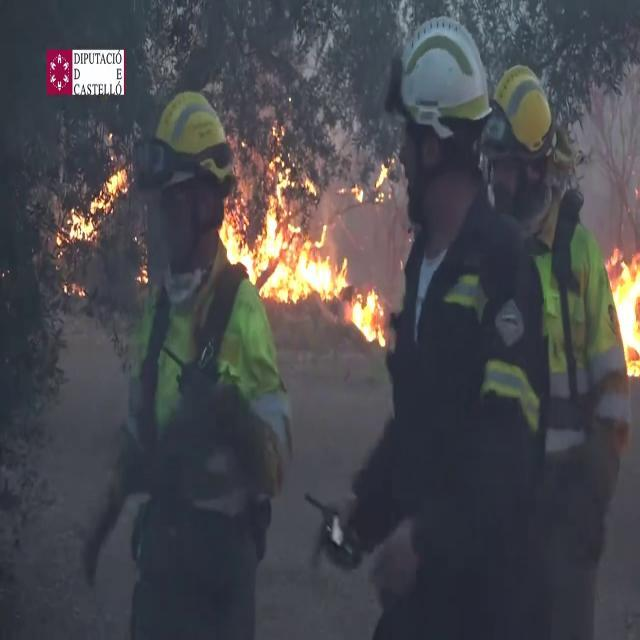Fire: (216, 126, 348, 306), (64, 154, 130, 250), (606, 238, 640, 374), (349, 282, 386, 346)
